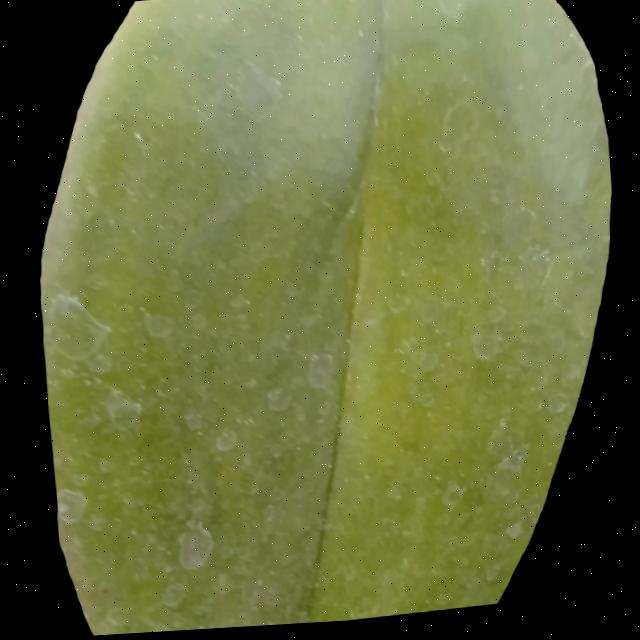mite: (170, 523, 214, 575), (301, 352, 335, 398), (466, 333, 503, 370), (153, 580, 187, 615), (261, 387, 292, 418), (434, 484, 464, 516), (410, 351, 439, 380), (209, 428, 237, 457), (178, 410, 206, 439)
spots: (13, 0, 640, 638)
